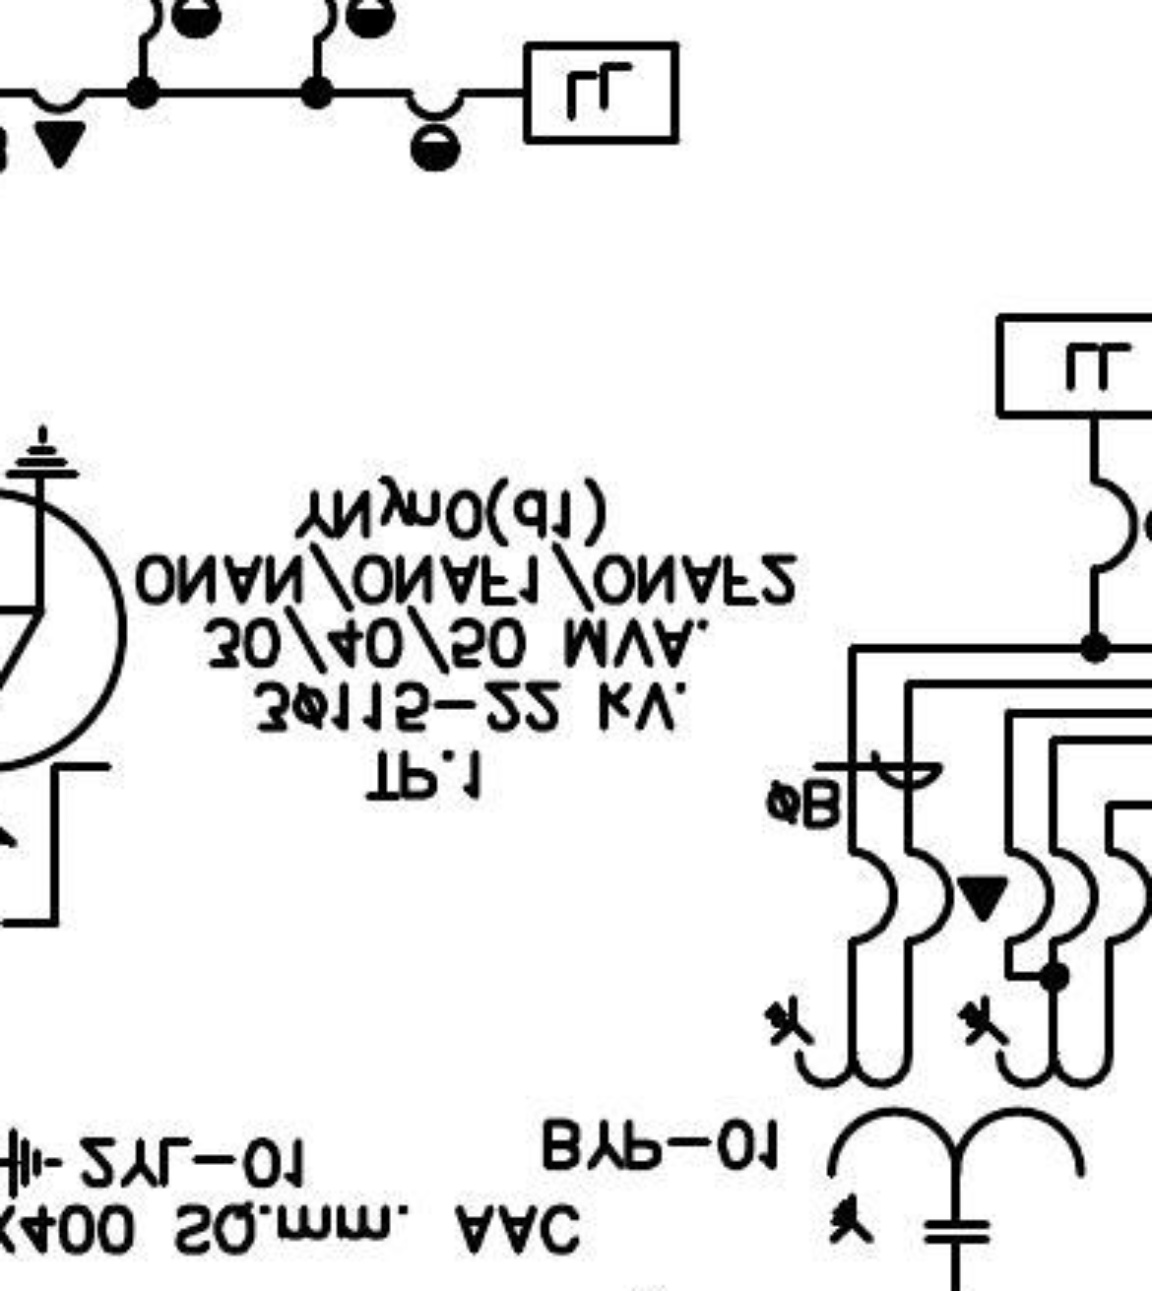115_cvt_3p: (761, 992, 1115, 1245)
LL: (522, 40, 681, 145)
